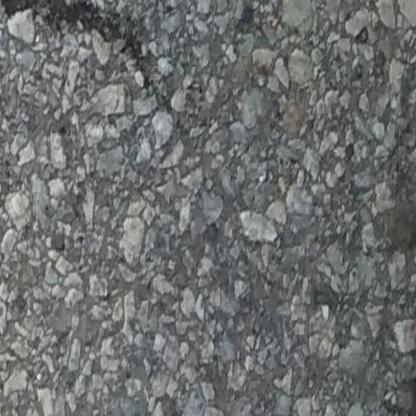Cracks: (0, 0, 178, 125)
